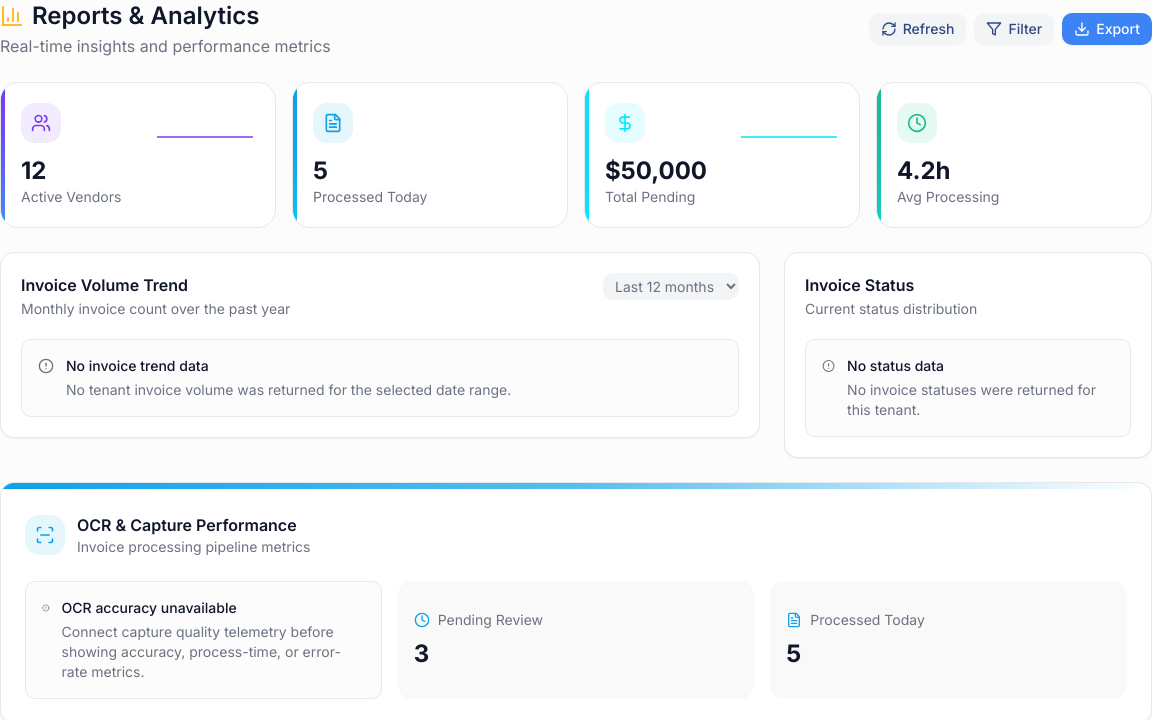
it: ReportsPage Predictive Insights › opens the report filter panel from the header button
Click the button "Filter": {"x": 1014, "y": 29} x1=974 y1=13 x2=1054 y2=45
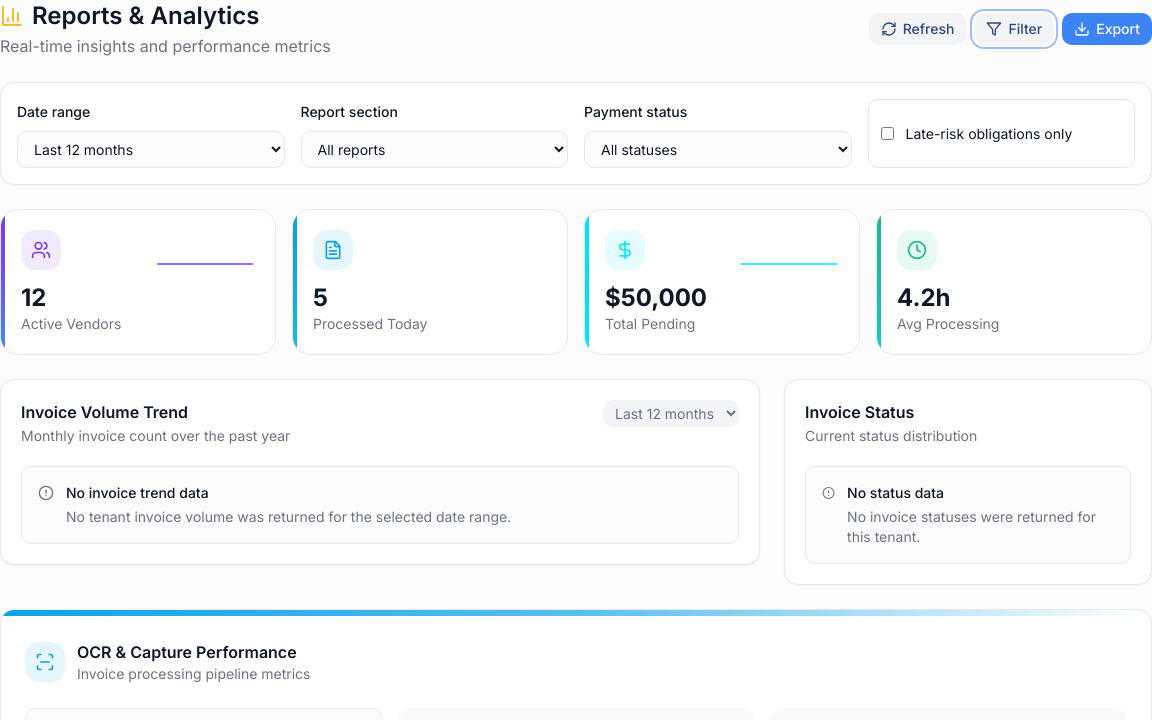
Check: the element named "Report filters" is shown, box x1=0 y1=82 x2=1151 y2=185
Check: the text "Date range" is shown, box x1=17 y1=103 x2=90 y2=120
Check: the text "Payment status" is shown, box x1=584 y1=103 x2=687 y2=120
